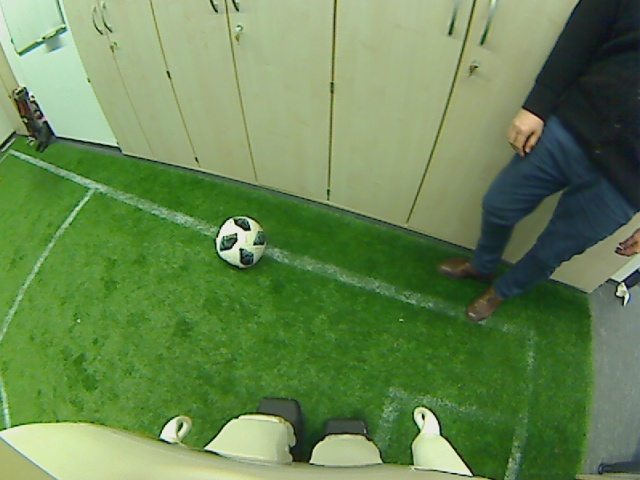ball: (213, 210, 269, 271)
